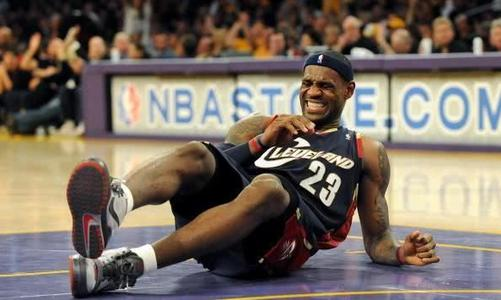10+: (10, 7, 494, 261)
down: (44, 45, 469, 300)
